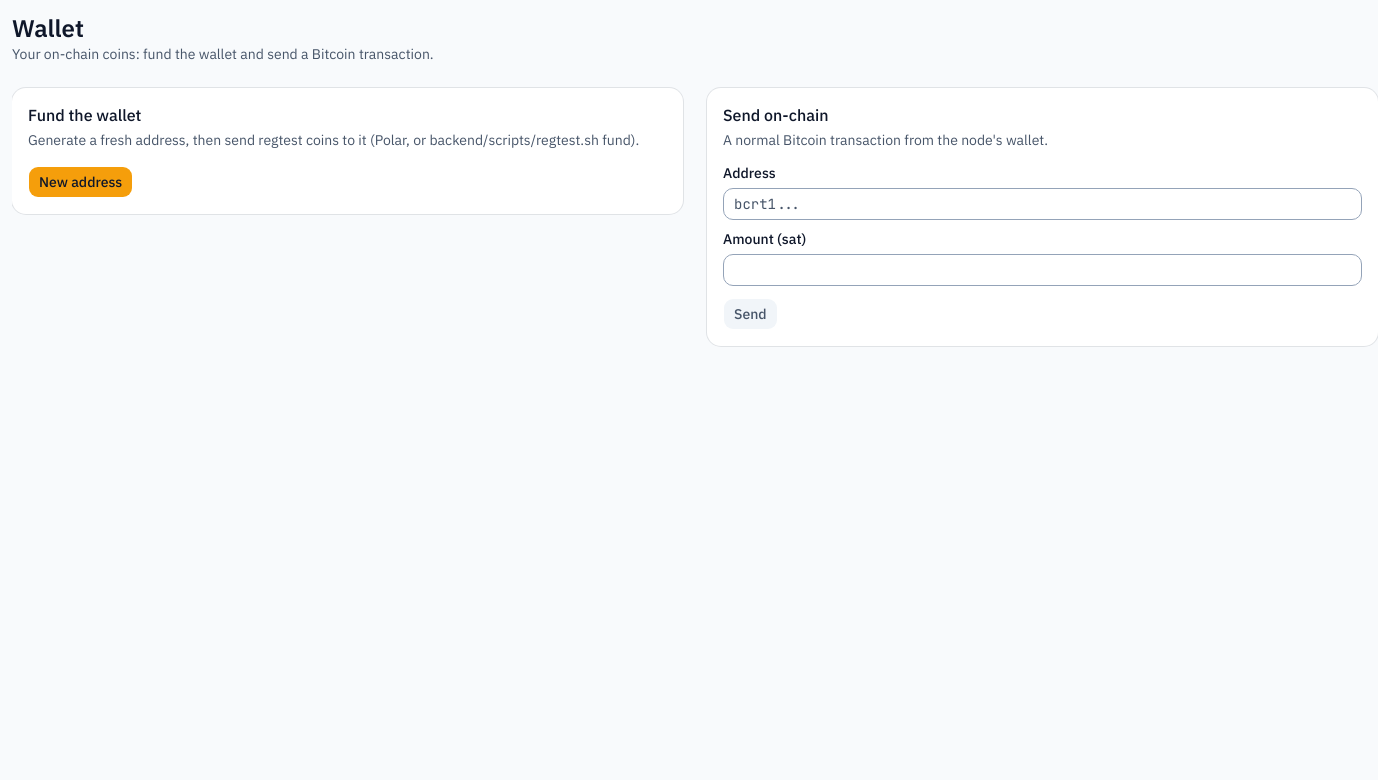
Scenario: Wallet › shows a new address after the button is pressed
The width and height of the screenshot is (1378, 780).
Click the button "New address".
click(81, 182)  # box [28, 166, 133, 198]
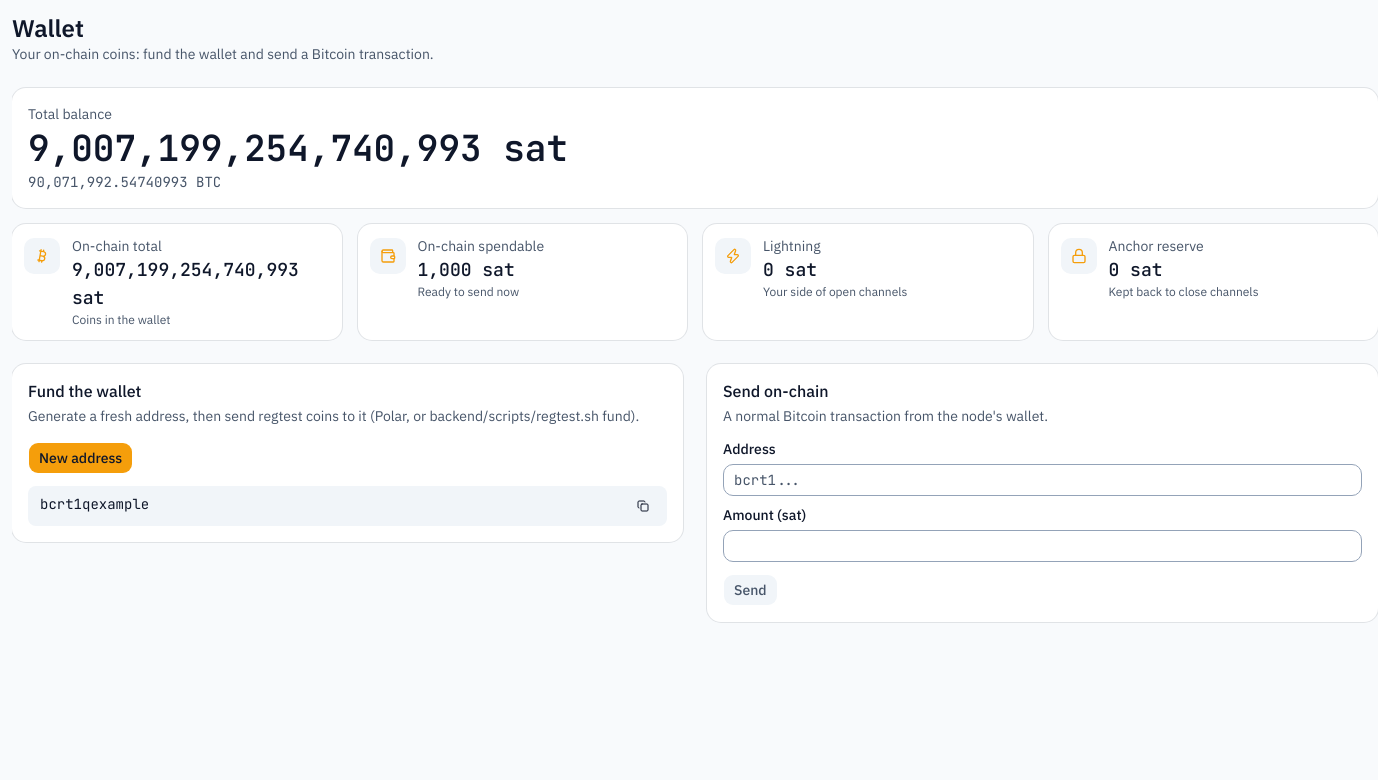
expect the text with test id "address" reads "bcrt1qexample": met, box [40, 495, 149, 513]
